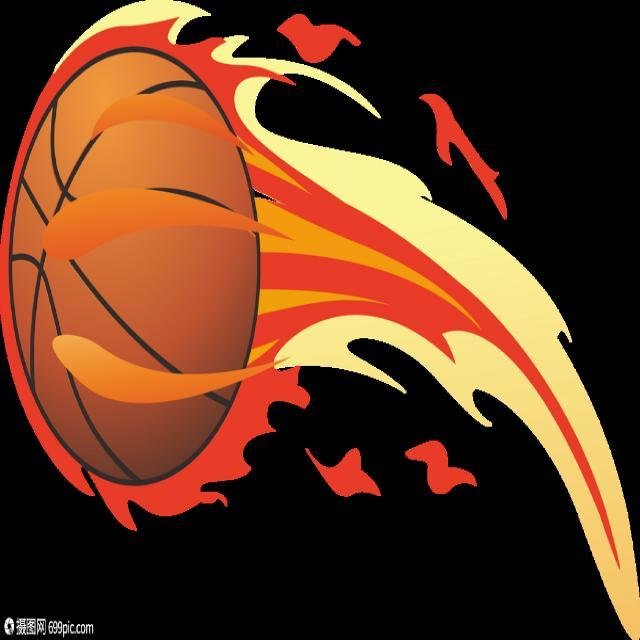rim: (6, 33, 265, 484)
